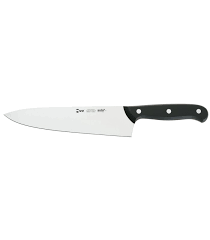kuchillu: (1, 100, 209, 140)
